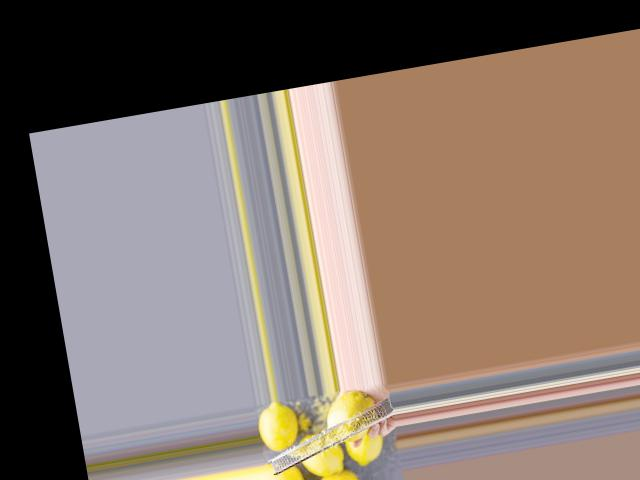lemon: (256, 398, 308, 452)
